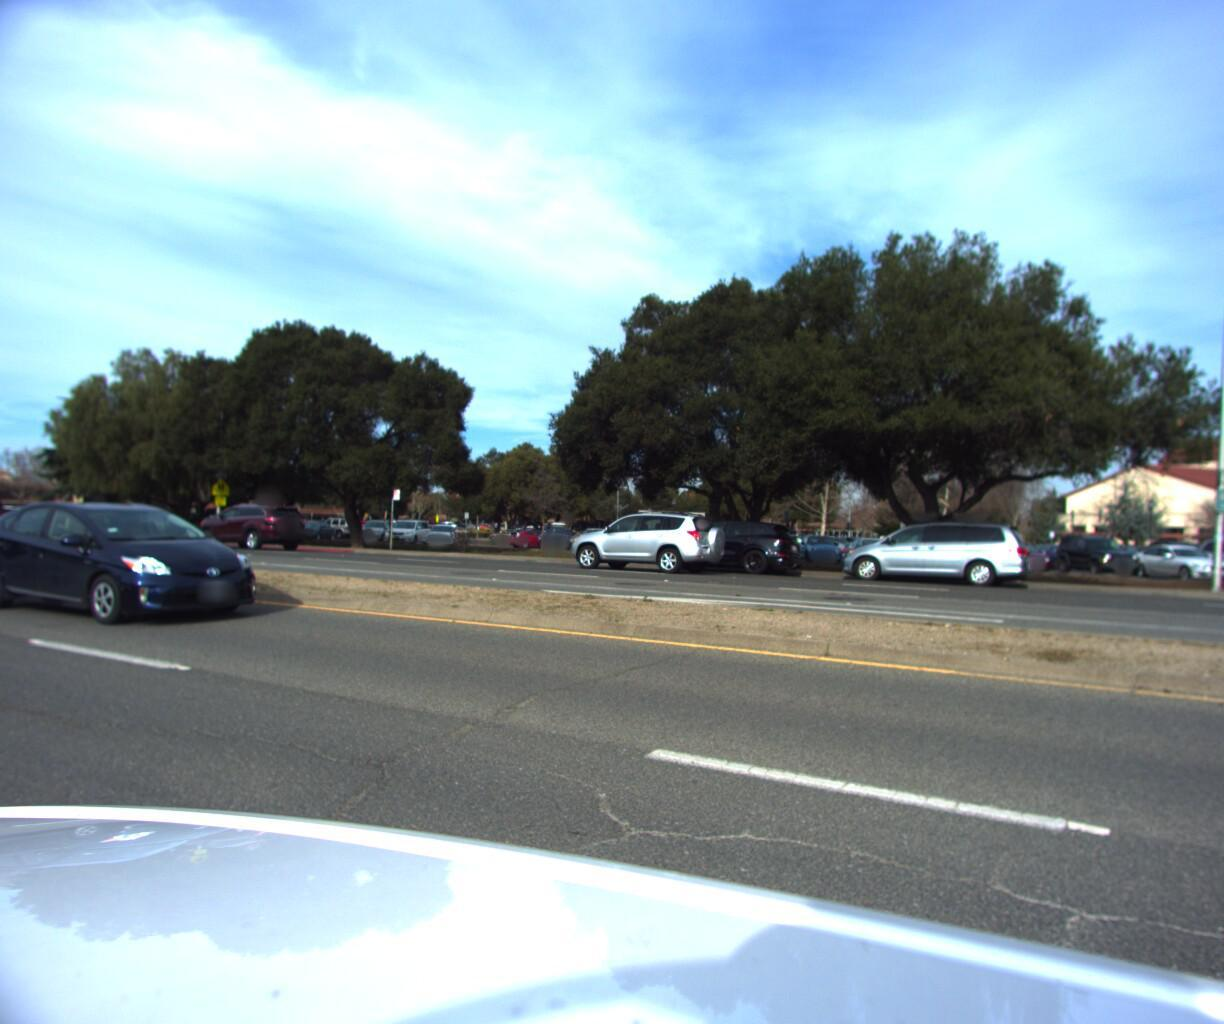car: (0, 500, 280, 635), (823, 515, 1036, 592), (559, 509, 742, 577), (634, 518, 808, 579), (190, 506, 315, 555), (0, 499, 28, 544)
